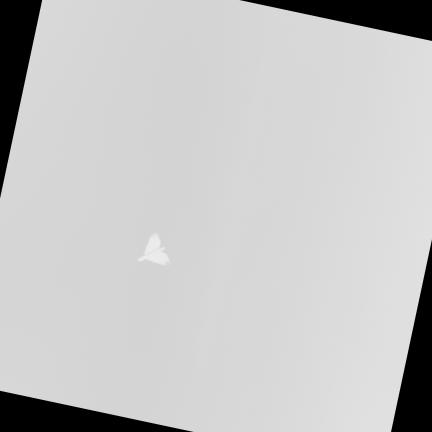Shahed: (137, 233, 169, 265)
